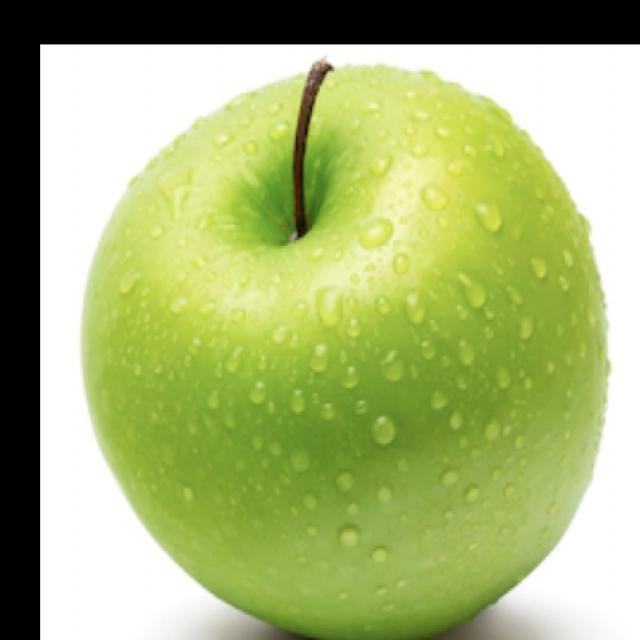Fresh Apple: (84, 62, 605, 640)
